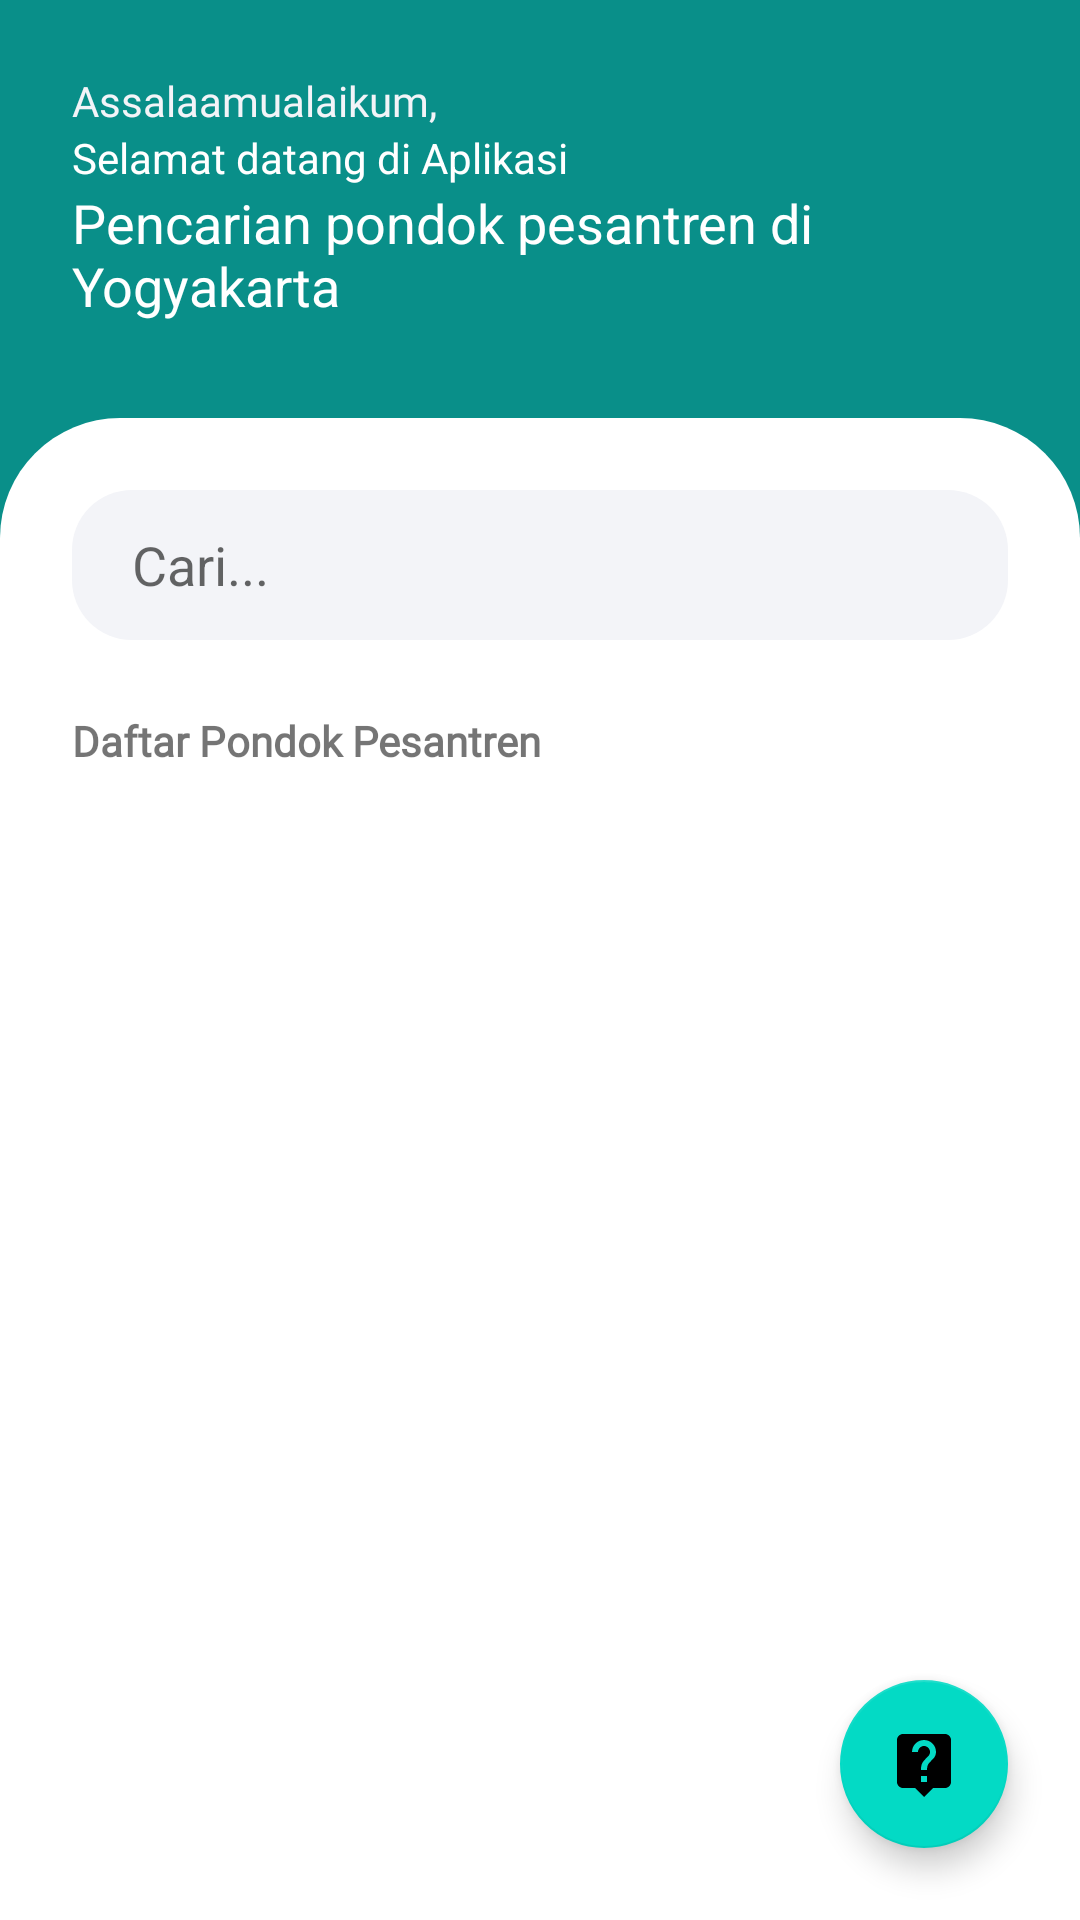

Icon click points for this 1080px x 1920px phone screenshot, format [x,y]:
help: [924,1764]
